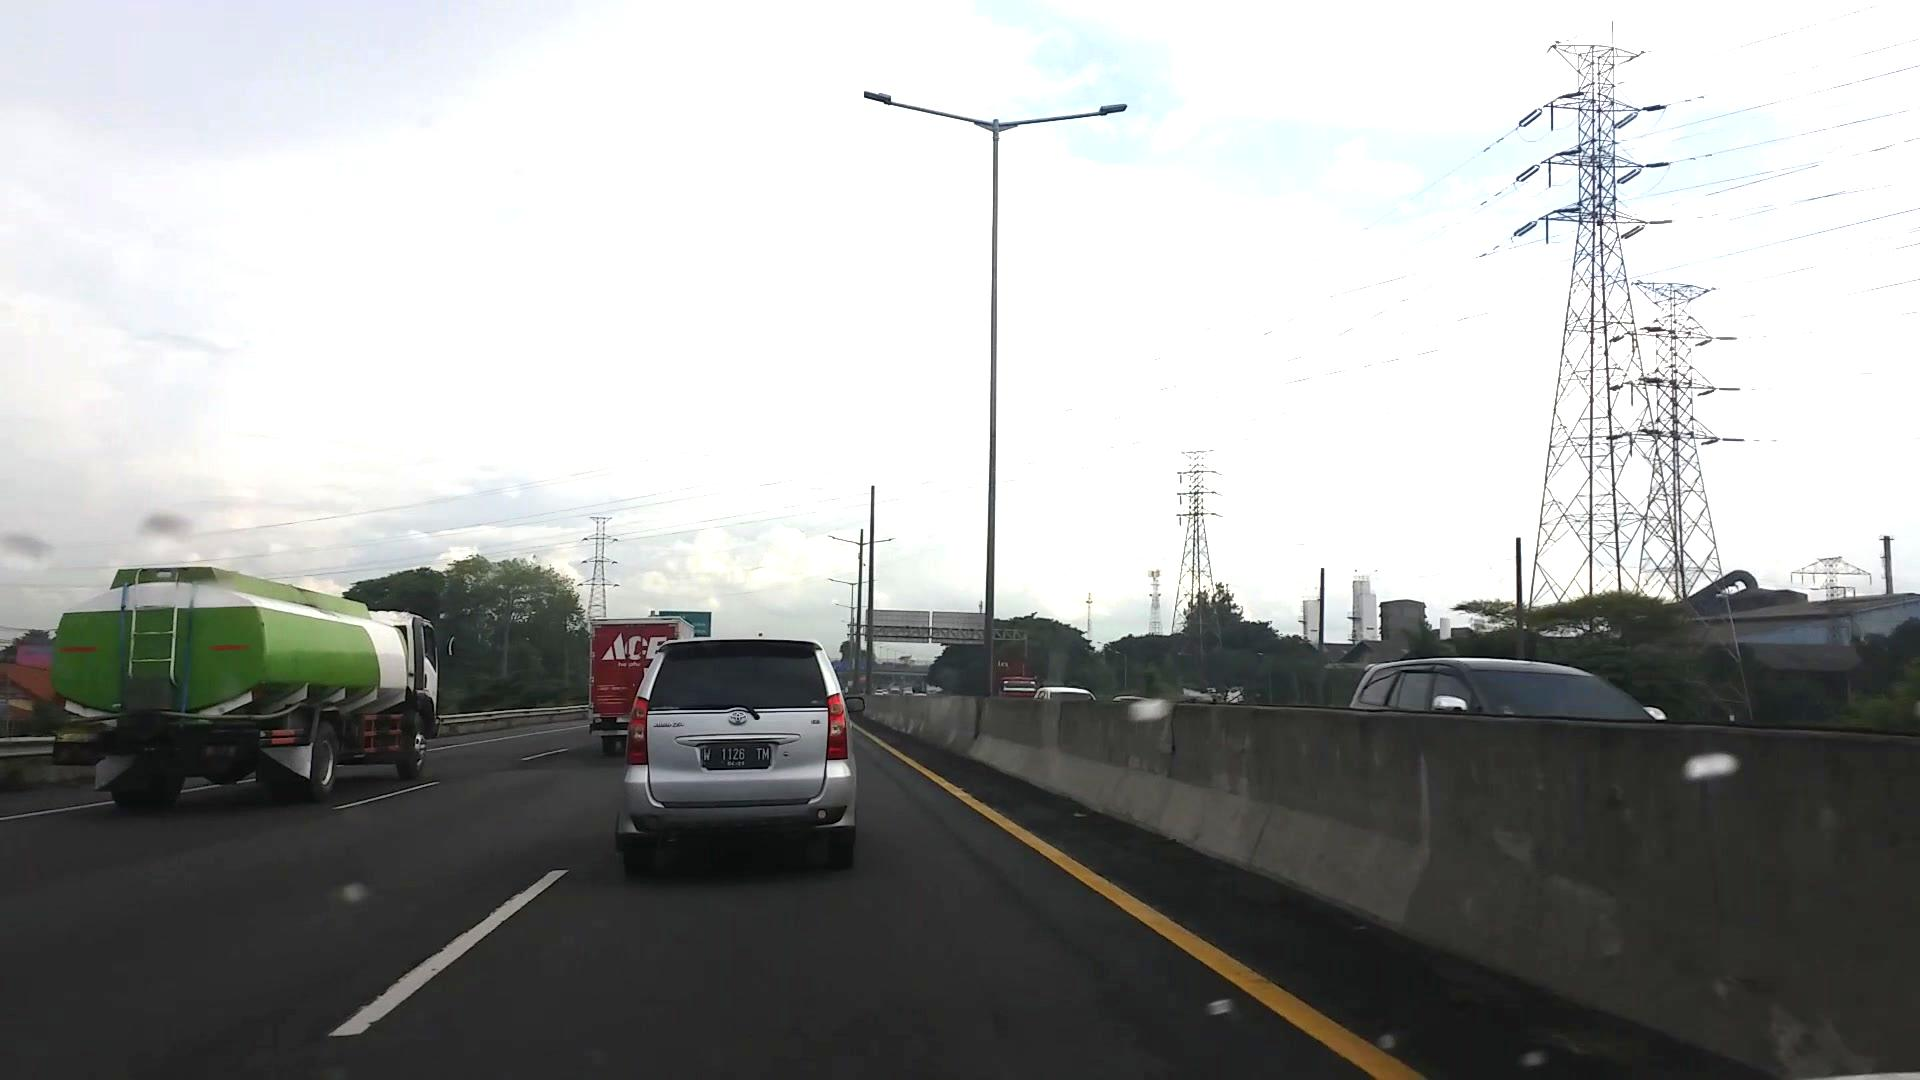plate_positive: (700, 744, 771, 769)
